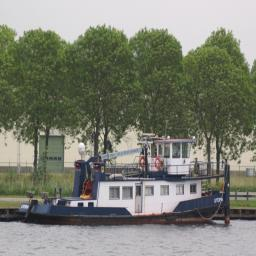tugboat: (15, 120, 233, 231)
